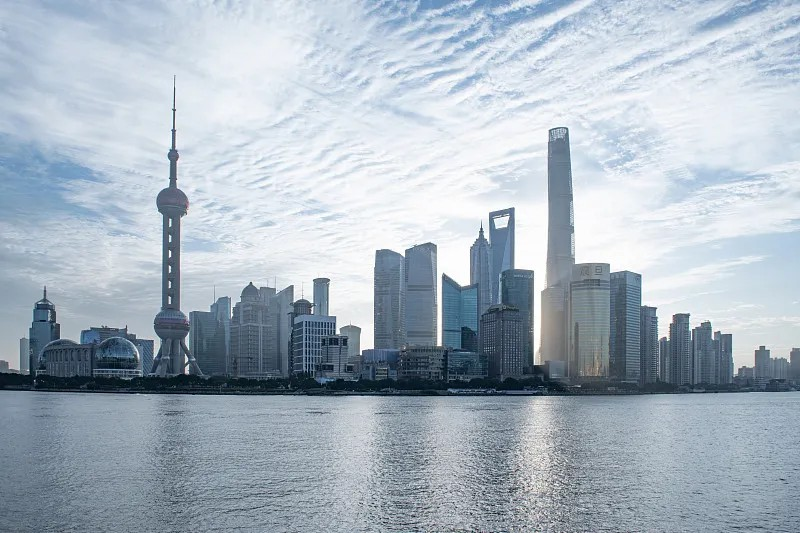Oriental: (153, 76, 202, 376)
